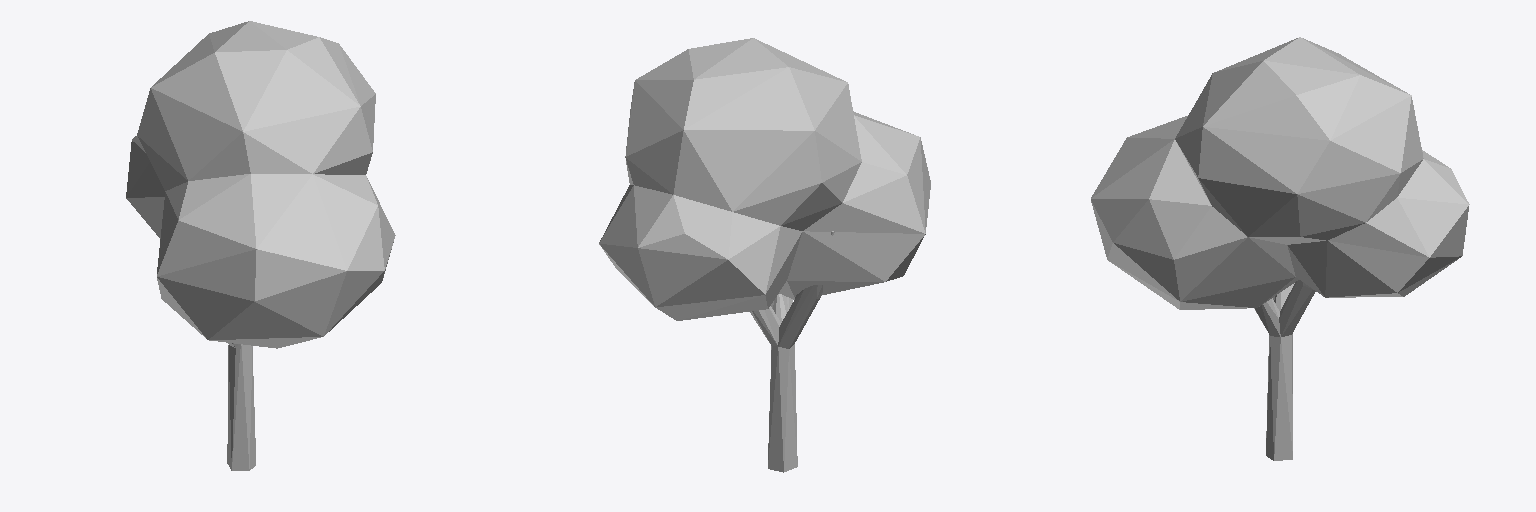
File: LowPolytree.obj
3 views of the same model, side by side, from view 1: azimuth 30°, elevation 25°; view 2: azimuth 150°, elevation 25°; view 3: azimuth 270°, elevation 25° (orthographic).
Visible parts, largest first — view 1: Cylinder; view 2: Cylinder; view 3: Cylinder.
Part boxes in pixels (bbox=[...]): Cylinder: bbox=[126, 21, 395, 470]; Cylinder: bbox=[599, 38, 930, 472]; Cylinder: bbox=[1091, 37, 1469, 460].
Bounding box in the file's own units: 9.37 × 14.38 × 11.96.